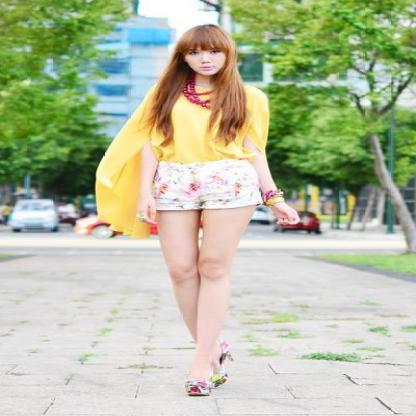shirt: (96, 82, 276, 238)
shoe: (181, 358, 229, 392)
shorts: (158, 159, 283, 209)
